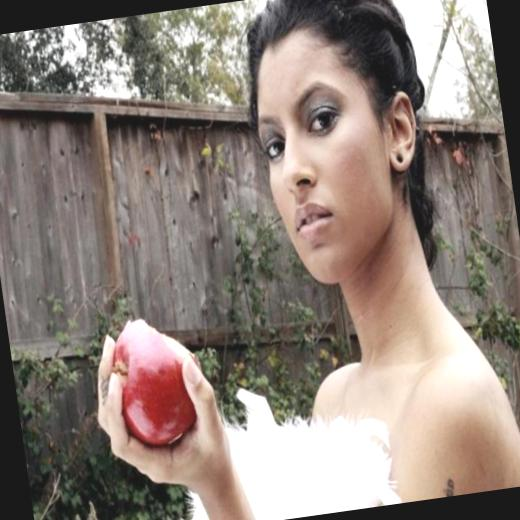Apple: (95, 324, 233, 479)
